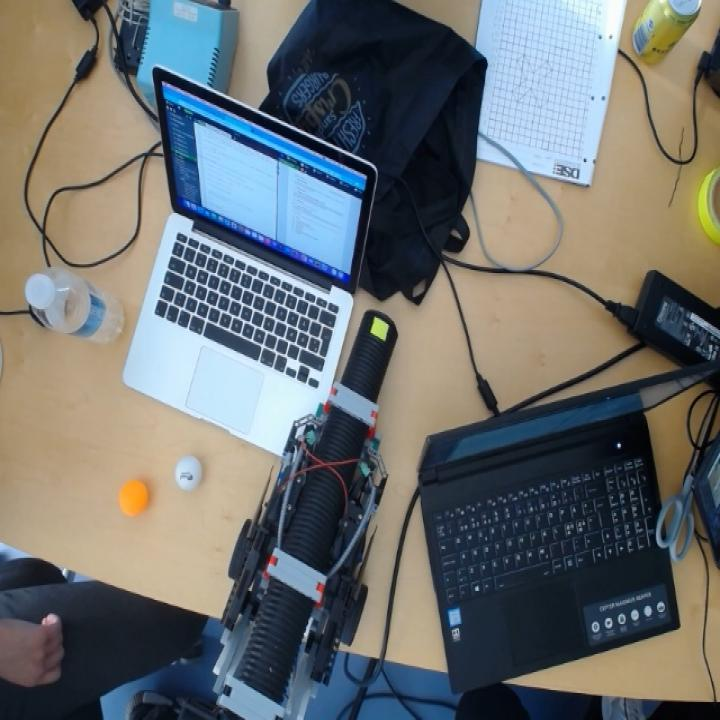orange: (118, 480, 149, 518)
robot: (214, 312, 397, 720)
robot-front: (345, 311, 397, 389)
white: (175, 456, 203, 494)
